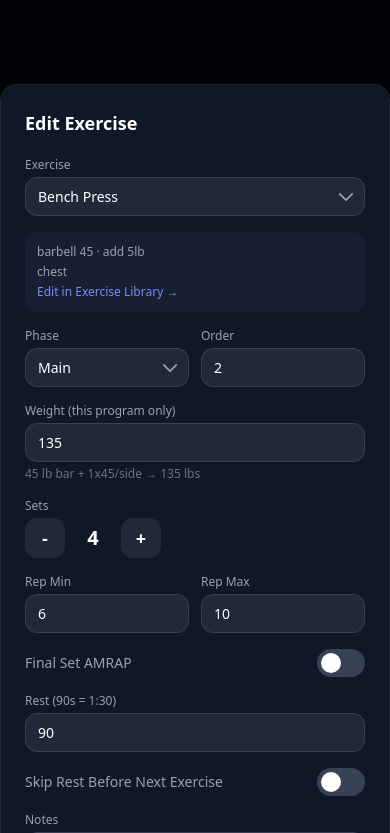
Test case: ExerciseEditor › editing an occurrence of an existing exercise › switching the picker to '+ New Exercise' reveals the name and metadata fields again
Select "+ New Exercise" in the 1st dropdown at [195, 197], box left=25, top=177, right=365, bottom=216
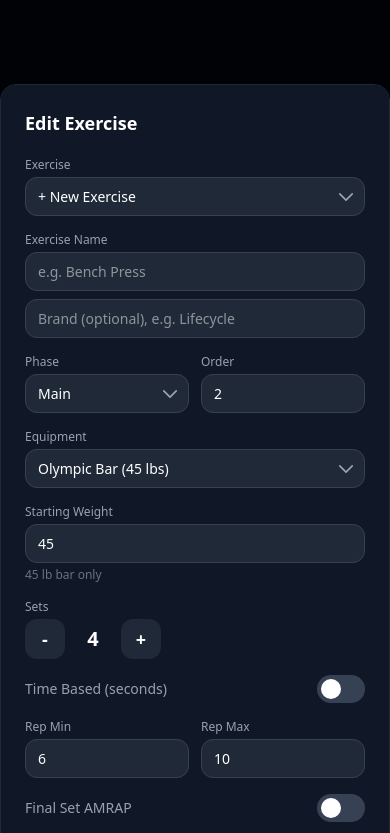
expect the field with placeholder "e.g. Bench Press" is shown: met, box left=25, top=252, right=365, bottom=291
